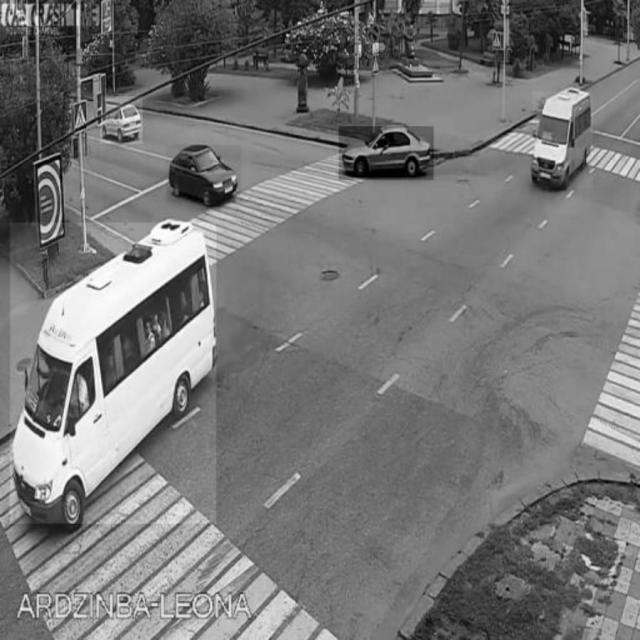vehicle: (10, 223, 216, 524), (533, 91, 593, 189), (339, 126, 433, 180), (167, 145, 241, 202), (101, 97, 143, 144)
